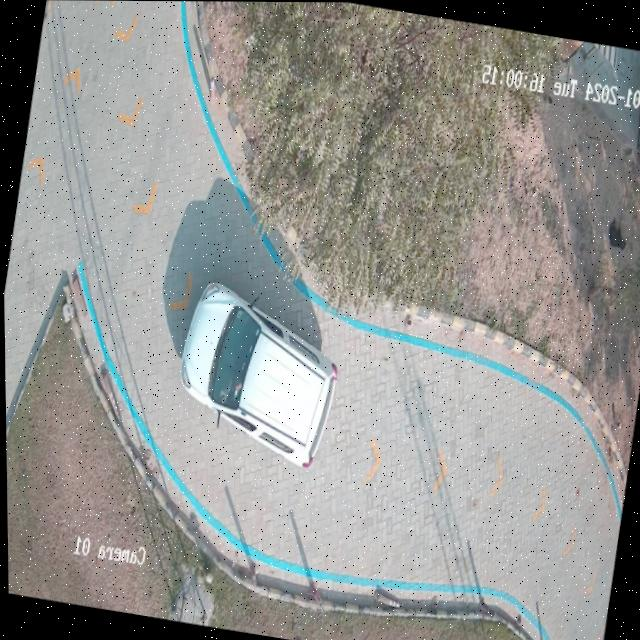car: (177, 280, 338, 469)
